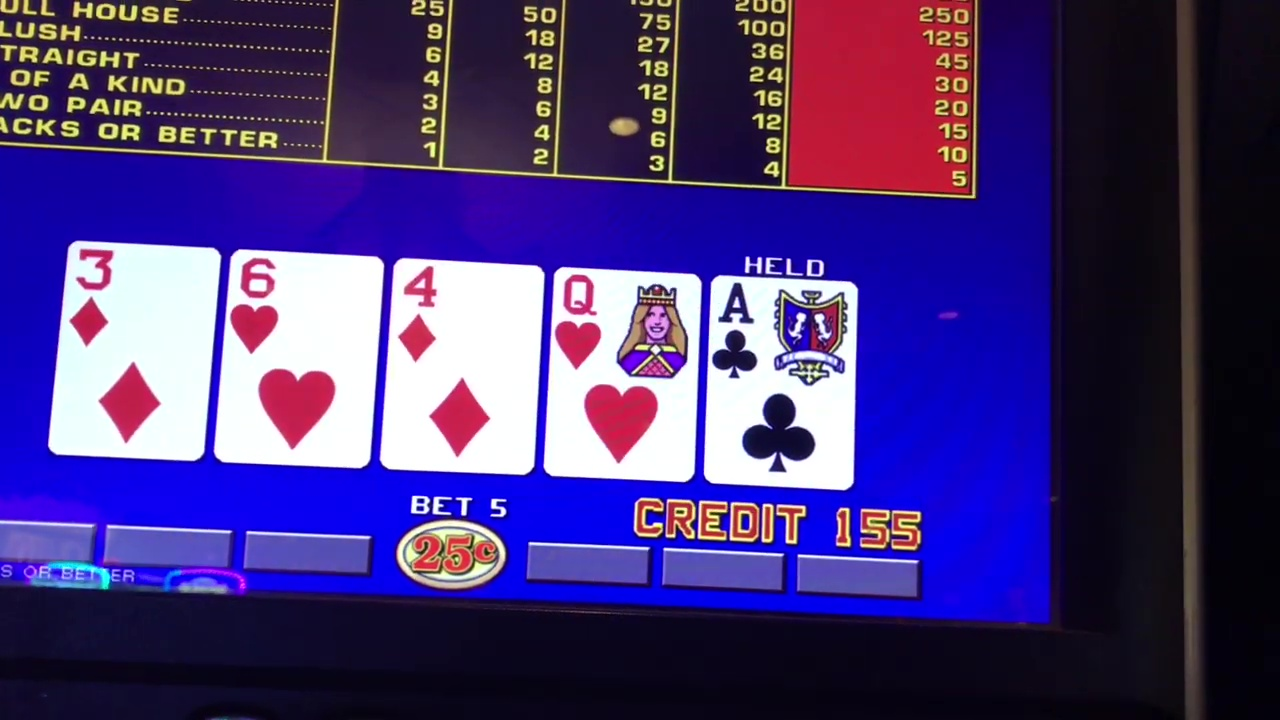CA: (708, 273, 847, 379)
D3: (71, 243, 199, 349)
D4: (396, 260, 530, 365)
H6: (233, 251, 368, 358)
HQ: (558, 275, 689, 379)
